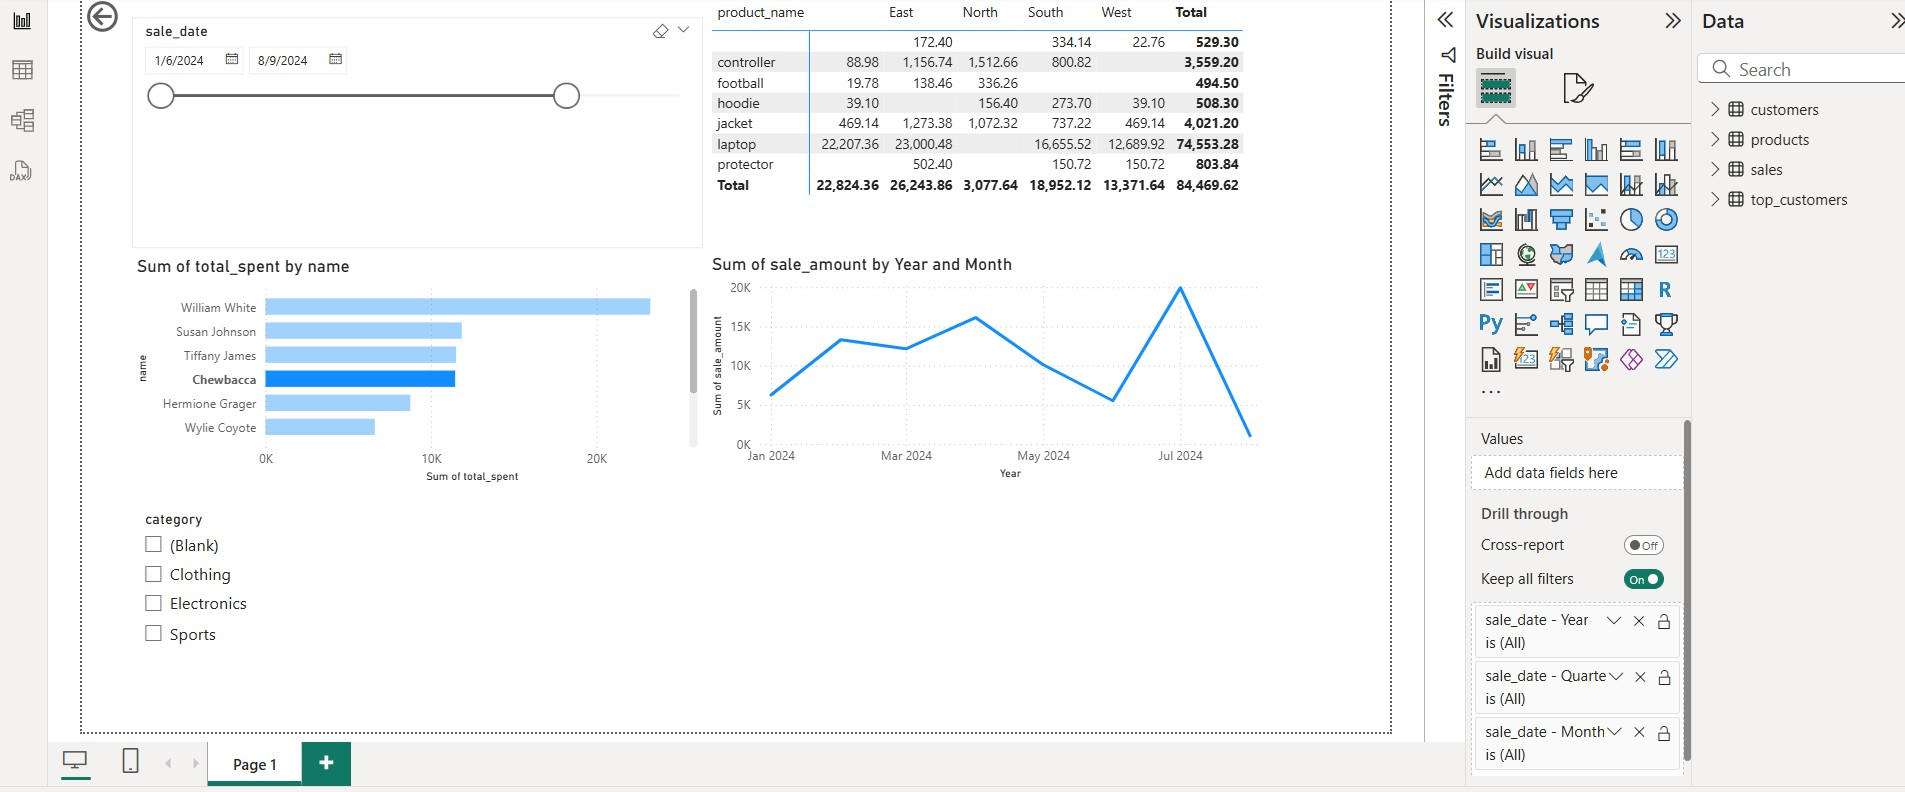

The dashboard page shown, as its layout file describes it:
{"tool":"powerbi","page":{"name":"Page 1","canvas":[1280,720],"ordinal":0},"visuals":[{"type":"slicer","fields":{"Values":["sales.sale_date"]},"box":[49.4,20.6,558.5,226.4],"z":0},{"type":"pivotTable","fields":{"Rows":["products.product_name"],"Columns":["customers.region"],"Values":["Sum(sales.sale_amount)"]},"box":[612,0,668.3,226.4],"z":1},{"type":"actionButton","box":[0,0,100,40],"z":2},{"type":"barChart","fields":{"Category":["top_customers.name"],"Y":["Sum(top_customers.total_spent)"]},"box":[49.4,253.9,558.5,226.4],"z":3},{"type":"lineChart","fields":{"Y":["Sum(sales.sale_amount)"],"Category":["sales.sale_date.Variation.Date Hierarchy.Year","sales.sale_date.Variation.Date Hierarchy.Month"]},"box":[612,252.5,558.5,226.4],"z":4},{"type":"slicer","fields":{"Values":["products.category"]},"box":[48.9,497.7,558.8,196.9],"z":5}]}

Visuals, with their boxes on the page's 1280x720 design canvas (x1, y1, x2, y2). These are canvas units, not pixel positions in the 1905x792 screenshot, which may show the page scaled, cropped or inside an application window:
slicer - sales.sale_date: 49 21 608 247
pivotTable - products.product_name x customers.region: 612 0 1280 226
actionButton: 0 0 100 40
barChart - top_customers.name x Sum(top_customers.total_spent): 49 254 608 480
lineChart - Sum(sales.sale_amount) x sales.sale_date.Variation.Date Hierarchy.Year: 612 252 1170 479
slicer - products.category: 49 498 608 695
